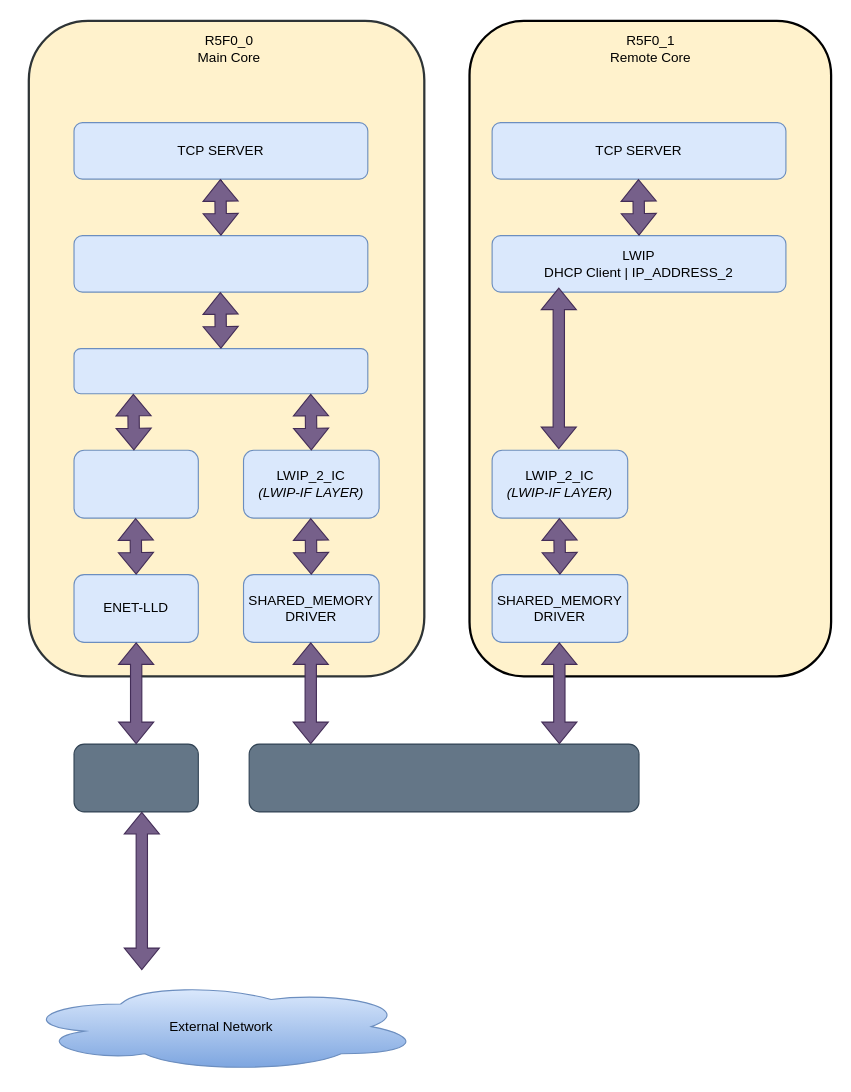
The diagram is 851 pixels wide and 1092 high, and some of its shapes have lost their labels. Here are the shapes that lost their labels. From the top down, the centre of each, then its label:
At (x=220, y=263): "LWIP DHCP Client | IP_ADDRESS_1".
At (x=220, y=370): "LwIP BRIDGE".
At (x=135, y=483): "LWIP_2_ENET (LWIP-IF LAYER)".
At (x=135, y=777): "ICSSG1".
At (x=443, y=777): "SHARED MEMEORY".
